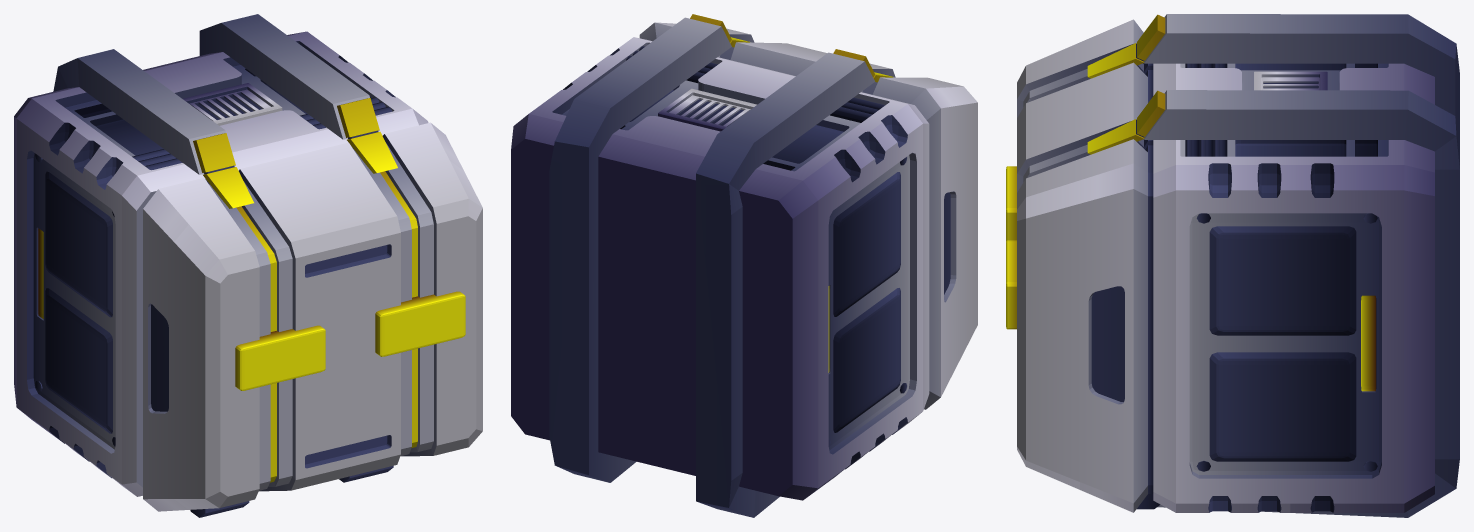
File: Crate.fbx
3 views of the same model, side by side, from view 1: azimuth 30°, elevation 25°; view 2: azimuth 150°, elevation 25°; view 3: azimuth 270°, elevation 25° (orthographic). The views are drawn at different scales.
Visible parts, largest first — view 1: Textured_Crate; view 2: Textured_Crate; view 3: Textured_Crate.
Boxes of the visible parts, left/top/right/bottom form: Textured_Crate: left=14, top=14, right=482, bottom=517; Textured_Crate: left=511, top=14, right=977, bottom=517; Textured_Crate: left=1006, top=14, right=1459, bottom=517.
Bounding box in the file's own units: 1172 × 1385 × 1390.
1 material, 1 textured.
